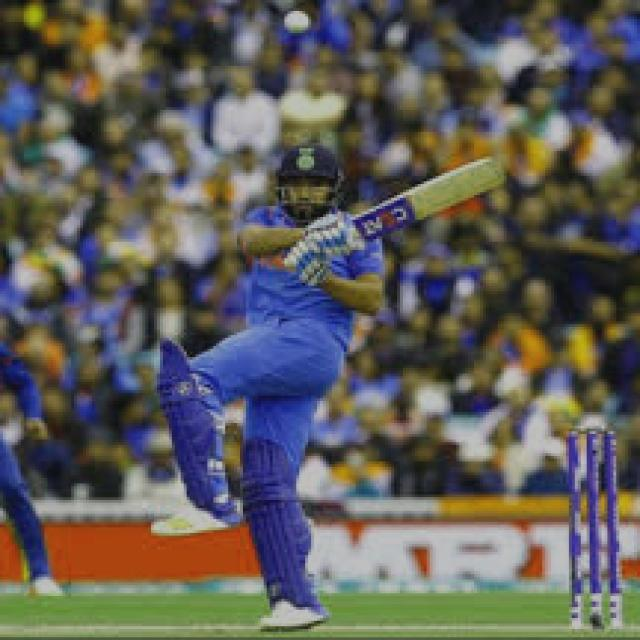toe: (461, 155, 511, 193)
